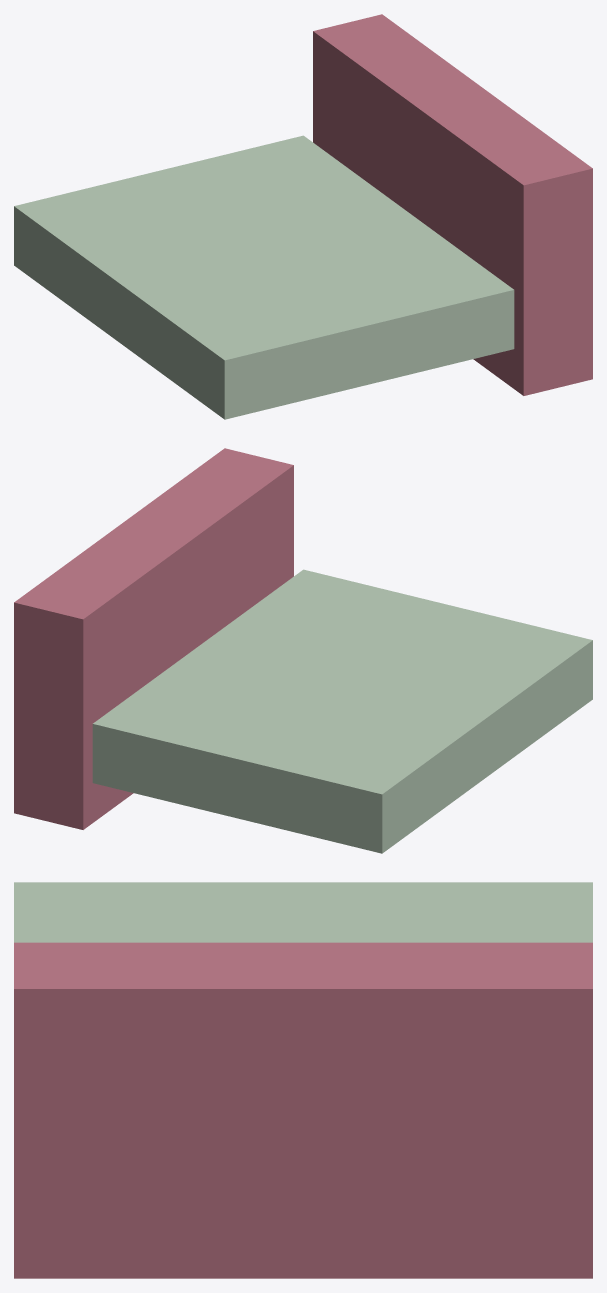
File: 199516_pred.glb
3 views of the same model, one above another, from view 1: azimuth 30°, elevation 25°; view 2: azimuth 150°, elevation 25°; view 3: azimuth 270°, elevation 25° (orthographic). The views are drawn at different scales.
Visible parts, largest first — view 1: world; view 2: world; view 3: world.
Boxes of the visible parts, box(x1,y1,x2,y2) form: world: box(14, 14, 592, 419); world: box(14, 448, 592, 853); world: box(14, 882, 592, 1278).
Size of the model in its own units: 5.85 by 3.2 by 5.8.
